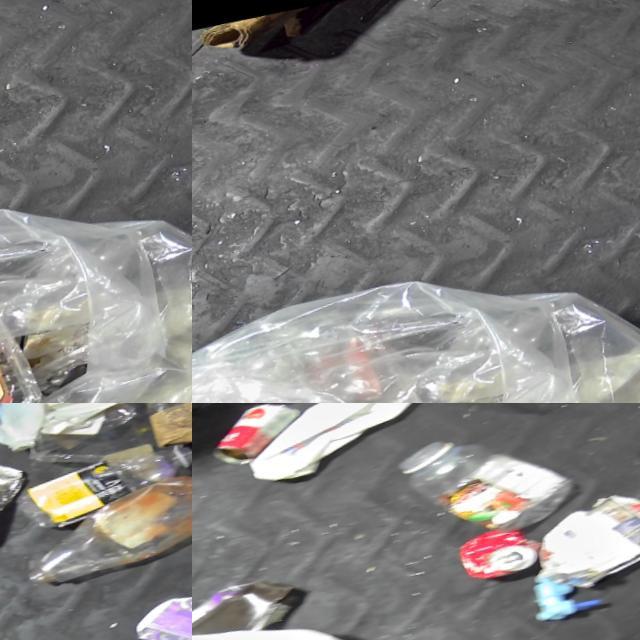can: (200, 403, 313, 473), (455, 515, 553, 587), (0, 448, 38, 578)
milk_jug: (230, 403, 442, 490), (192, 586, 382, 640), (0, 403, 58, 456)
plastic_bottle: (13, 461, 192, 591), (11, 437, 192, 537)
